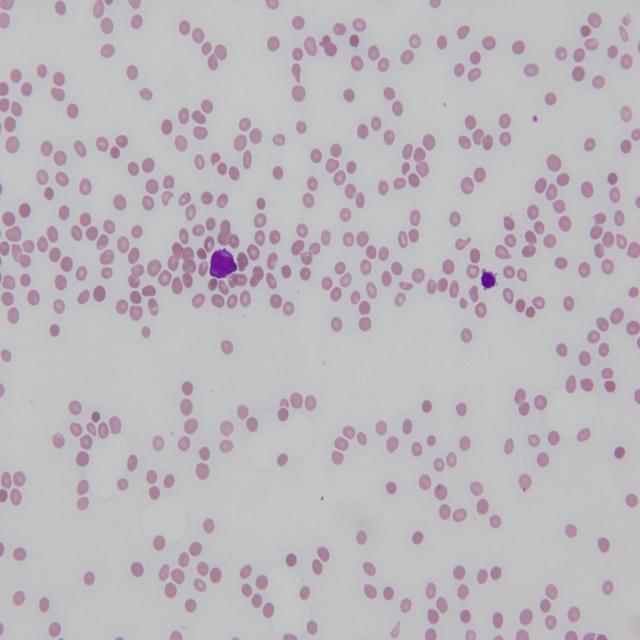cell: (210, 249, 238, 279), (481, 269, 496, 288)
